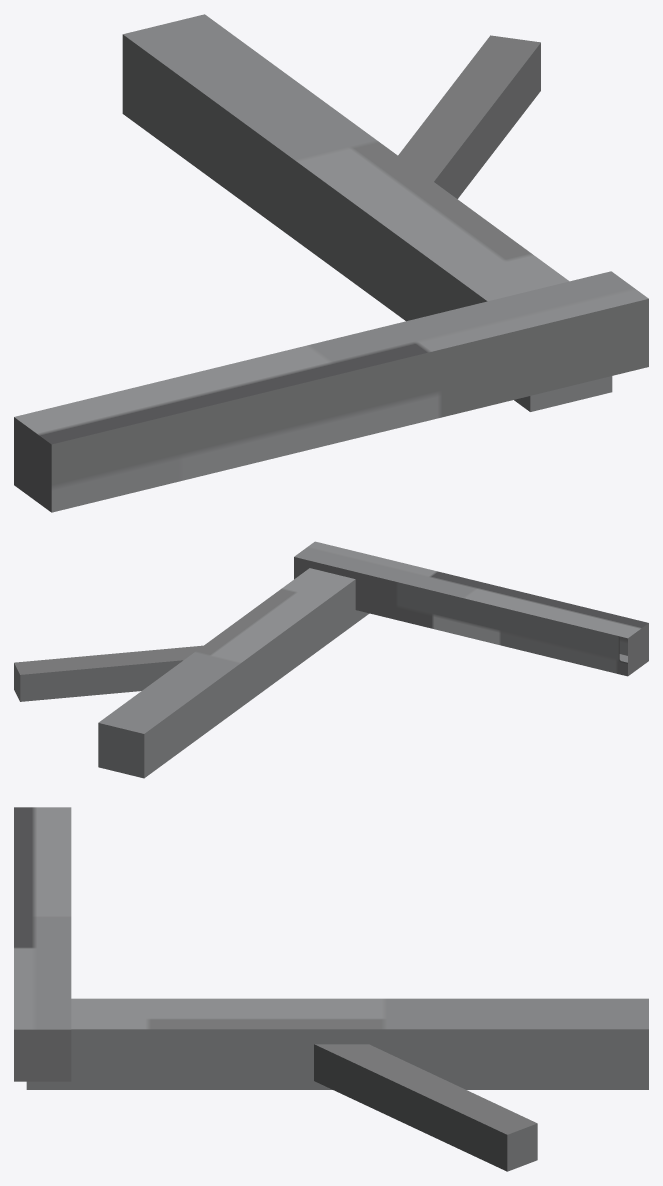
3 views of the same model, one above another, from view 1: azimuth 30°, elevation 25°; view 2: azimuth 150°, elevation 25°; view 3: azimuth 270°, elevation 25° (orthographic). The views are drawn at different scales.
Bounding box in the file's own units: 1.27 × 0.1385 × 1.13.
